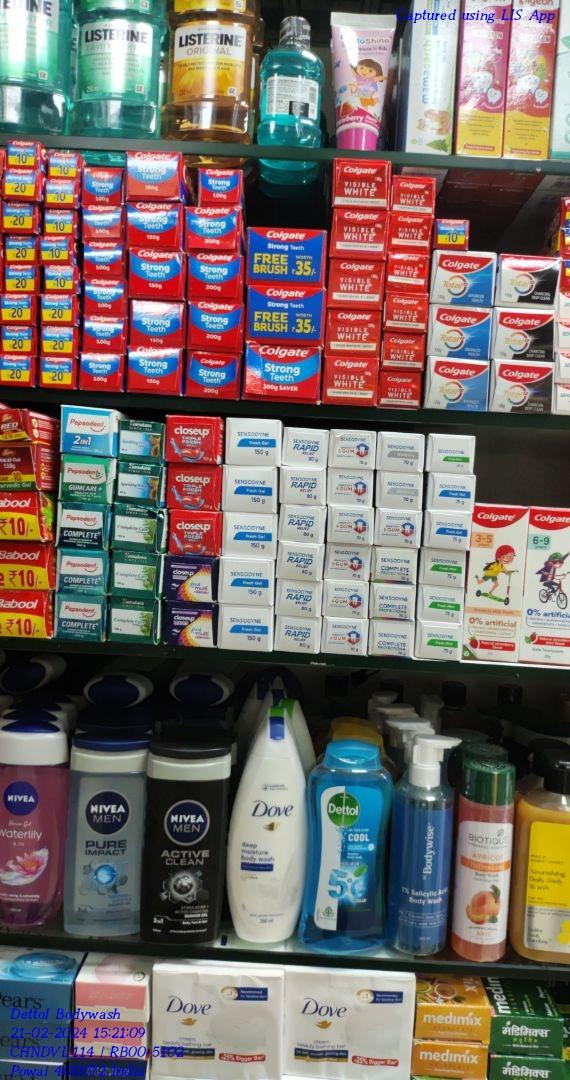Dettol_Bodywash_Cool: (305, 737, 390, 954)
Dove_Deep_Moisture_Body_Wash_250ML: (228, 717, 305, 946)
Nivea_Shower_Gel_Waterlily_and_Oil_250ML: (0, 717, 66, 926)
